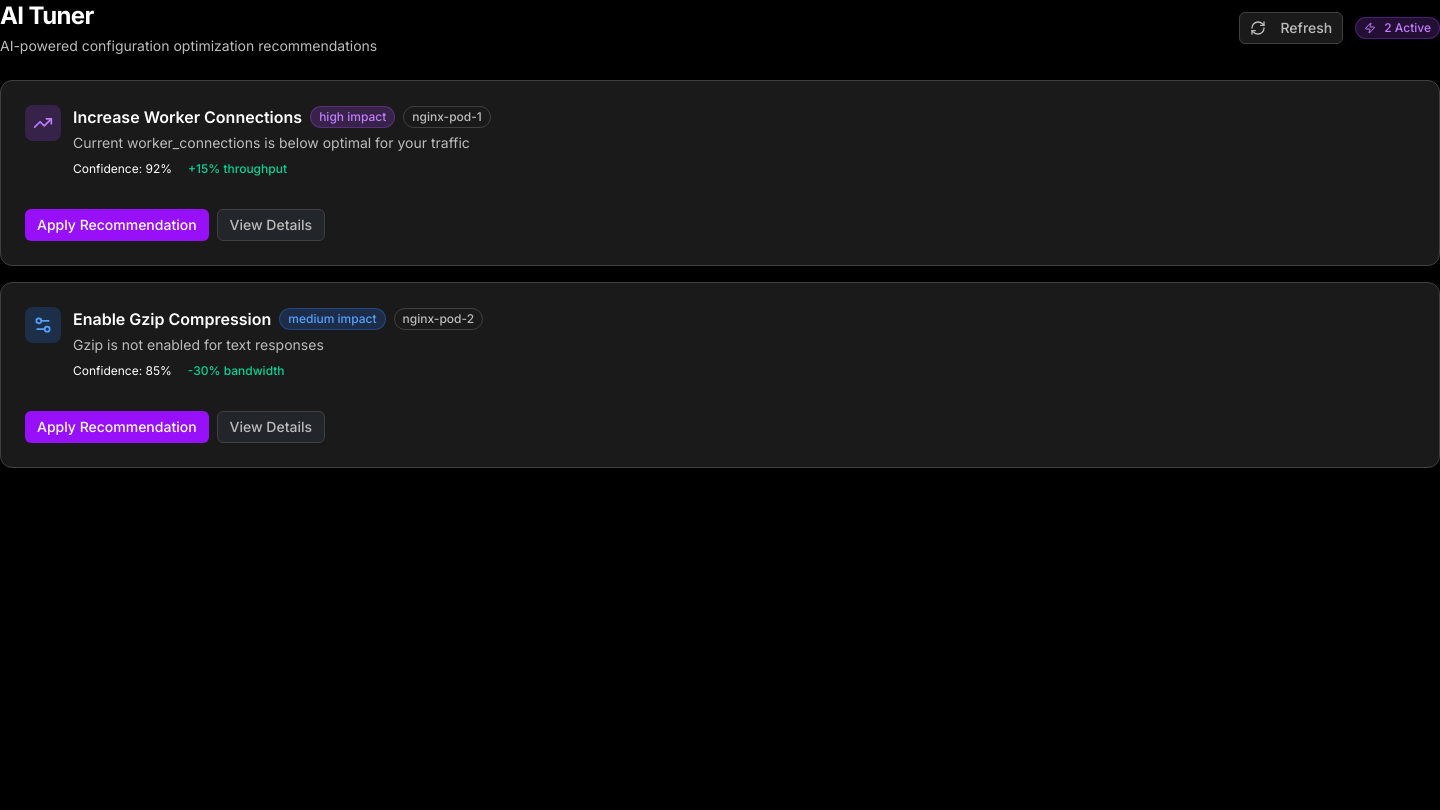
Test: OptimizationPage › User Interactions › should open details dialog when View Details is clicked
Expected: the text "Increase Worker Connections" is shown, [73,105,302,129]
Click the button "View Details" below "92" at [271, 225], box [217,209,325,241]
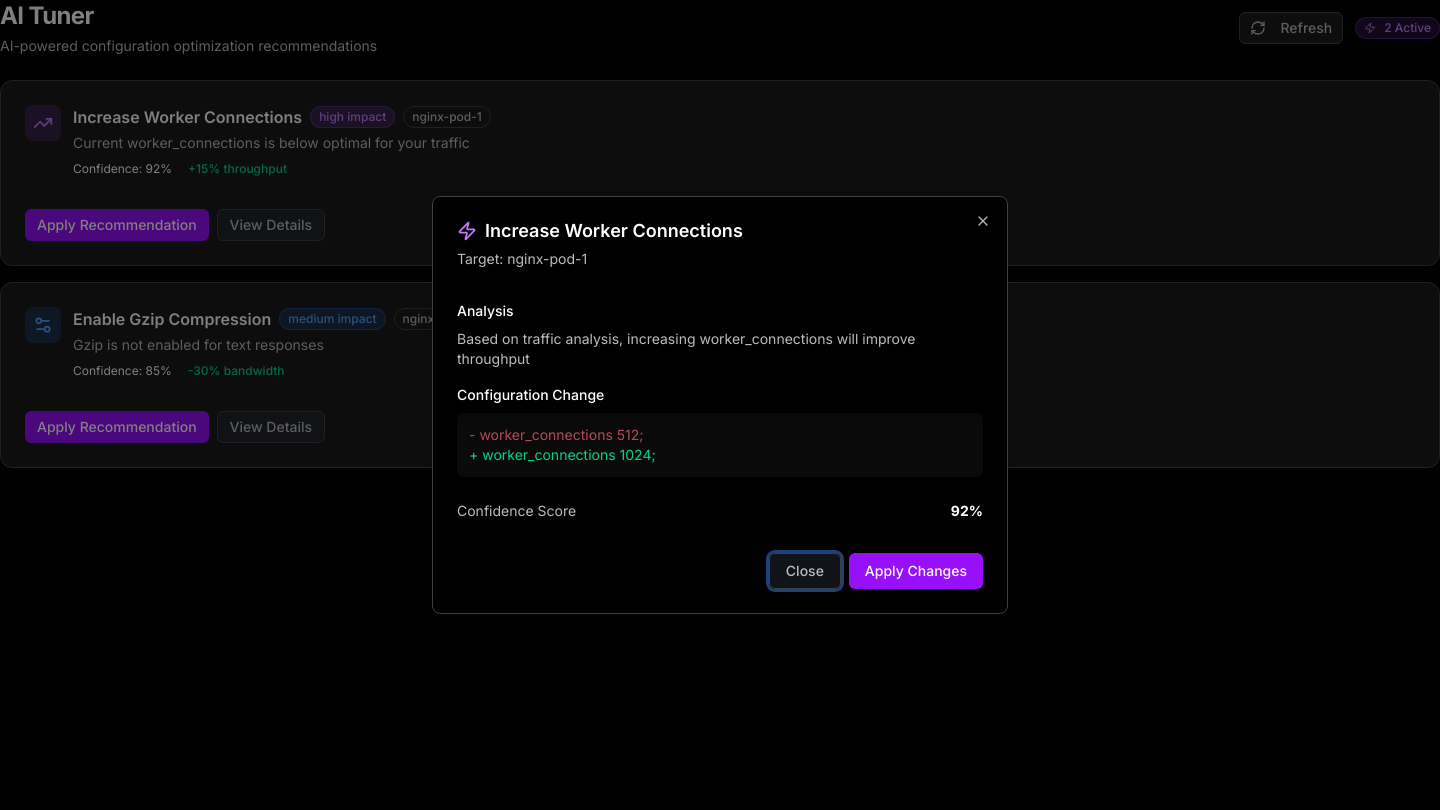
Result: the heading "Analysis" is shown at [457,302,514,319]
Result: the heading "Configuration Change" is shown at [457,386,604,403]
